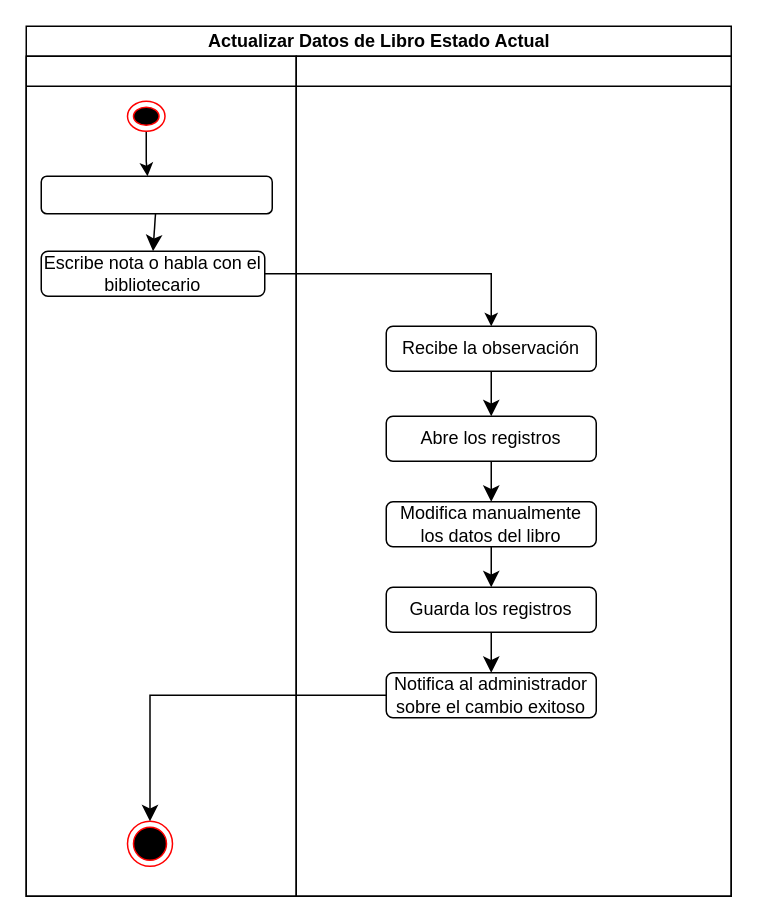
This 758x923 diagram has some shape labels left out. The box of each missing label's shape, as (x1, y1, x2, y2) in pixels:
Administrador: (25, 55, 296, 896)
Bibliotecario: (295, 55, 731, 896)
Identifica un error en los datos de un libro: (40, 175, 272, 214)
